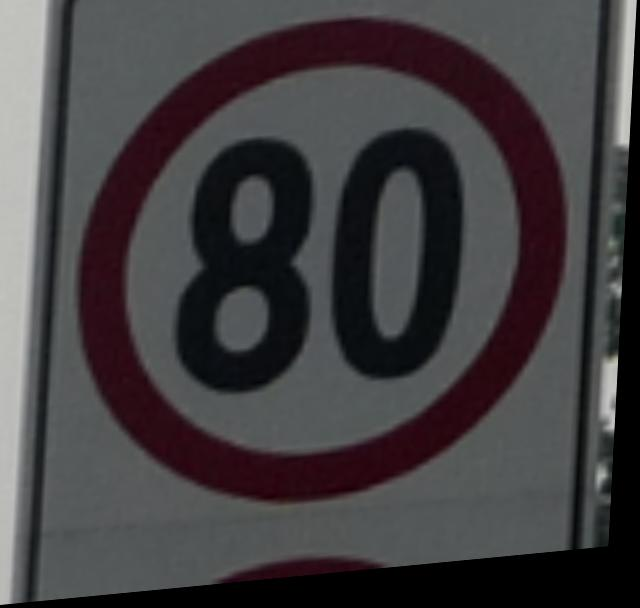limit80: (42, 0, 592, 545)
